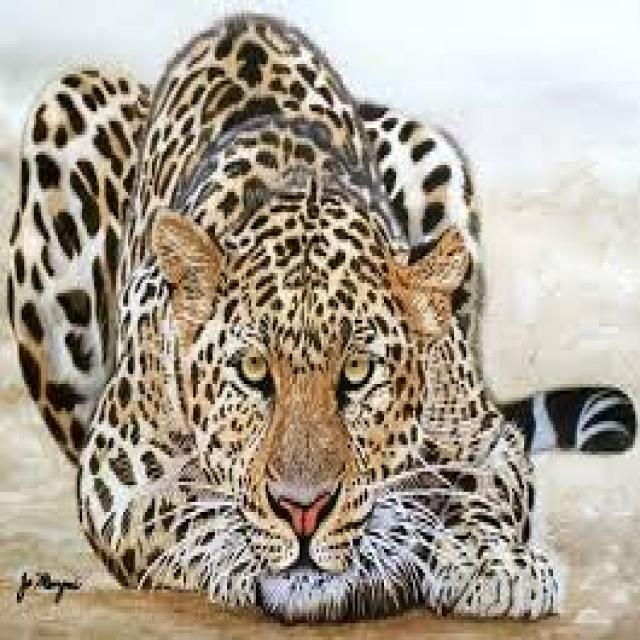Jaguar: (7, 10, 640, 630)
